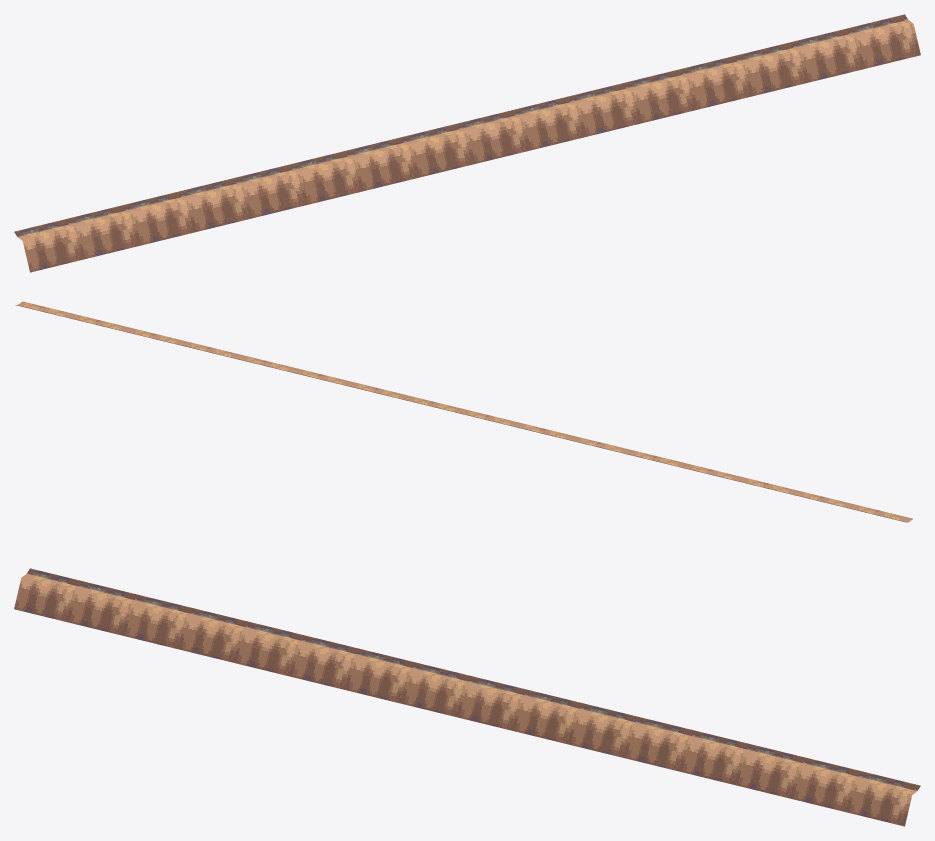
The model's file is hgss-piece-004-element-21-84.glb.
3 renders of one model, top to bottom at view 1: azimuth 30°, elevation 25°; view 2: azimuth 150°, elevation 25°; view 3: azimuth 330°, elevation 25°, orthographic.
Bounding box in the file's own units: 32 × 1 × 1.
Materials: 1 (1 with a texture image).
